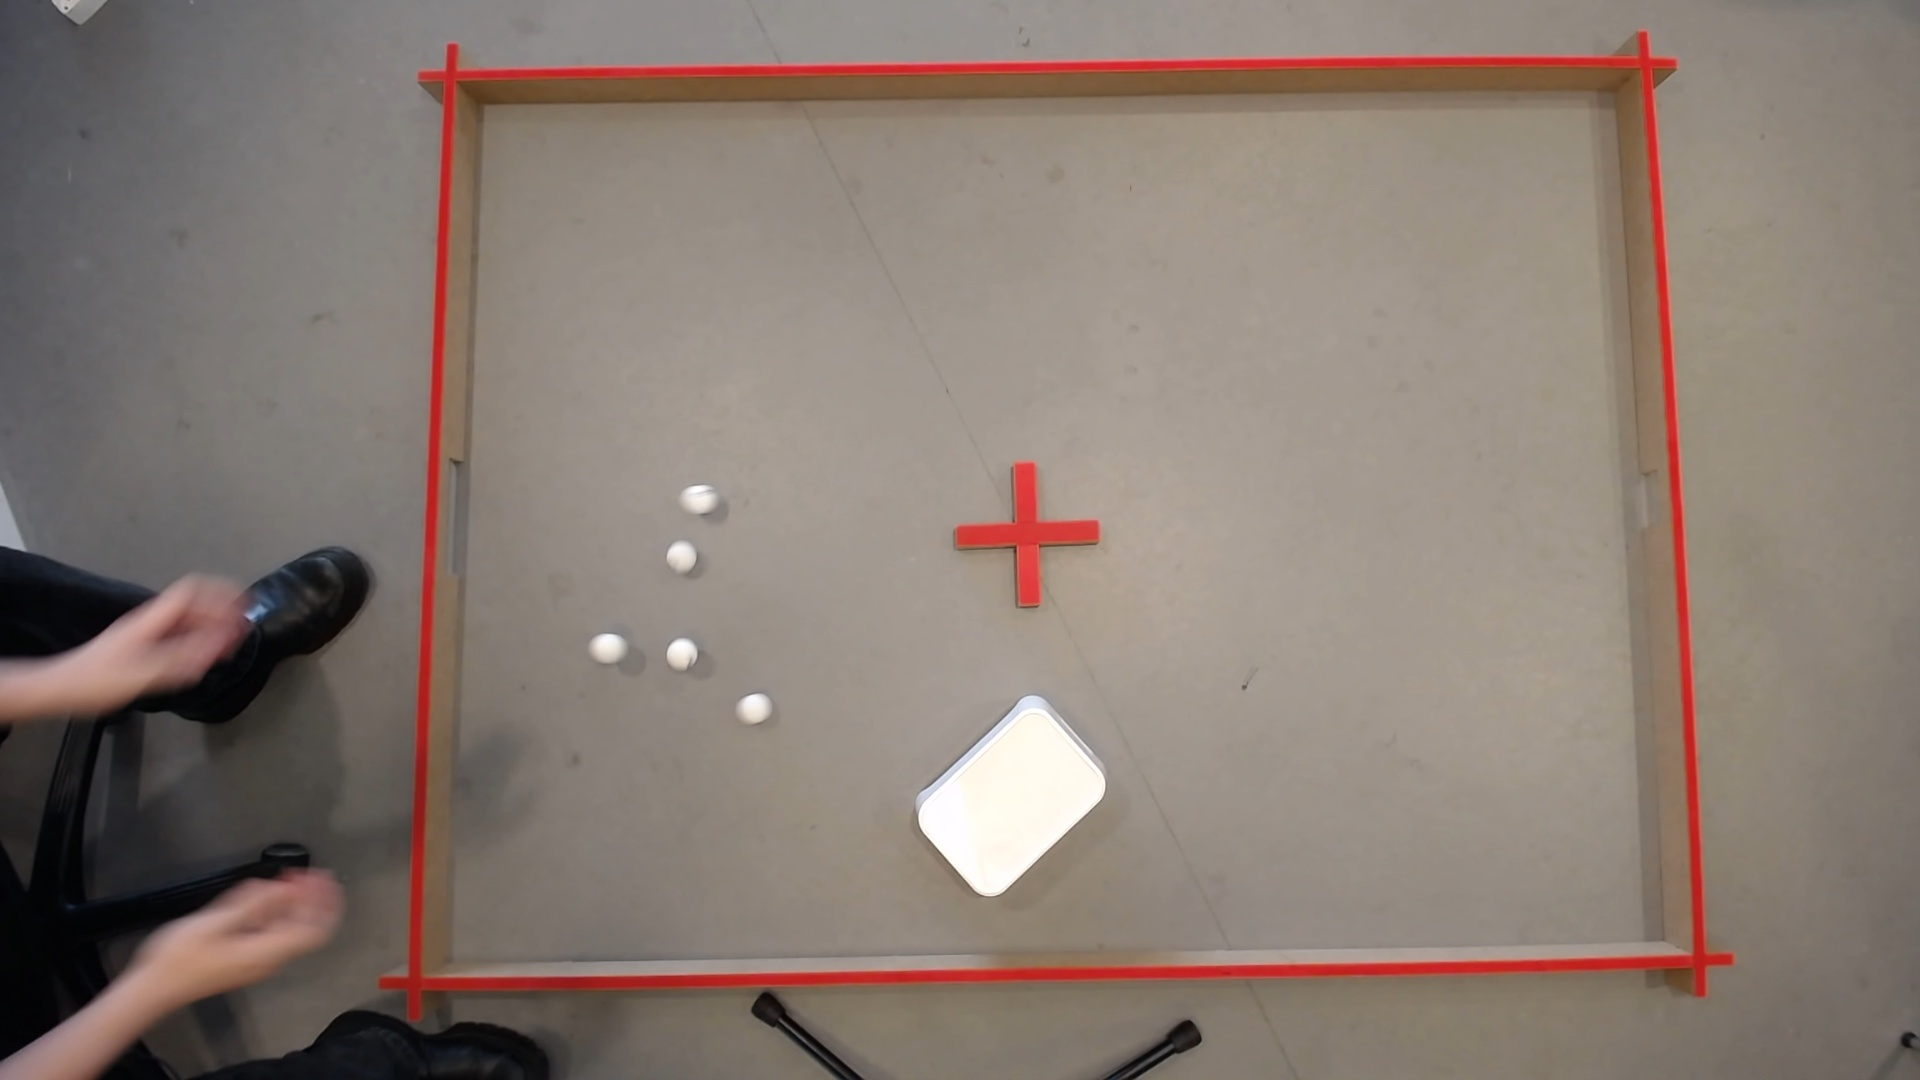balls: (899, 686, 1120, 905), (16, 595, 189, 711), (661, 632, 699, 670), (679, 477, 716, 516), (589, 628, 625, 662), (663, 537, 698, 570), (740, 694, 766, 720)
car: (107, 972, 148, 1007)
